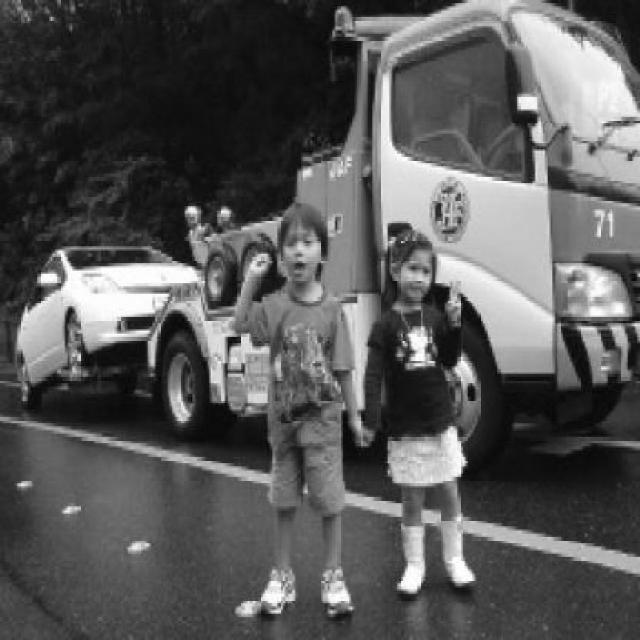Hatchback: (16, 246, 198, 410)
Tow Truck: (296, 0, 640, 469), (64, 205, 280, 438)
